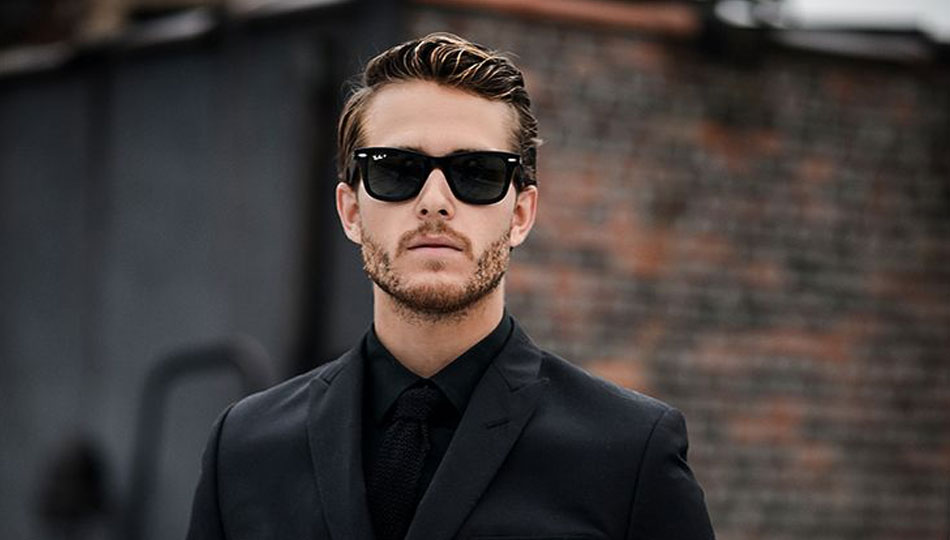bare: (351, 187, 516, 313)
